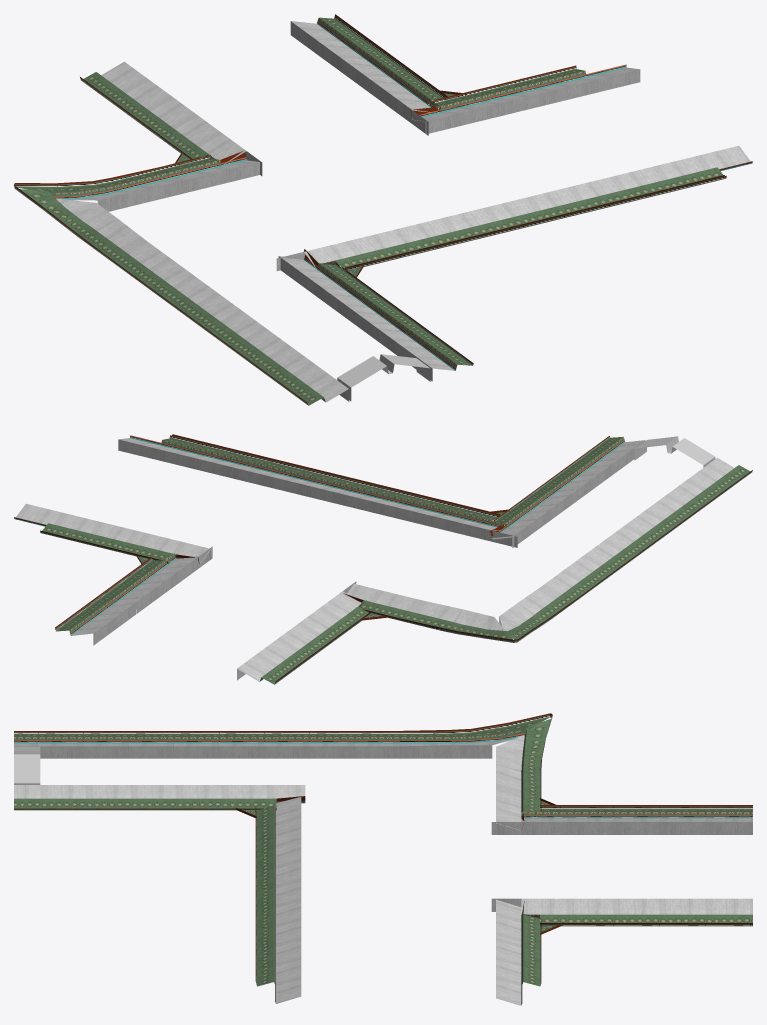
Rendered from SM_Roofplate09D.fbx.
The picture shows the model from 3 angles, top to bottom: view 1: azimuth 30°, elevation 25°; view 2: azimuth 150°, elevation 25°; view 3: azimuth 270°, elevation 25°; orthographic projection. The views are drawn at different scales.
Parts seen in each view (by area): view 1: SM_Roofplate09D; view 2: SM_Roofplate09D; view 3: SM_Roofplate09D.
Boxes of the visible parts, <box> form: SM_Roofplate09D: <box>14,14,752,405</box>; SM_Roofplate09D: <box>14,434,752,684</box>; SM_Roofplate09D: <box>14,713,752,1005</box>.
Size of the model in its own units: 2343 by 2651 by 99.31.
